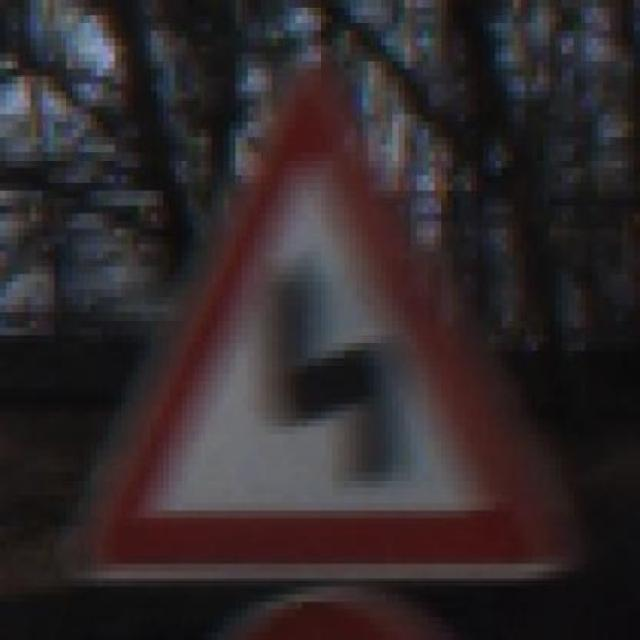Left Zig Zag Traffic: (72, 68, 586, 587)
